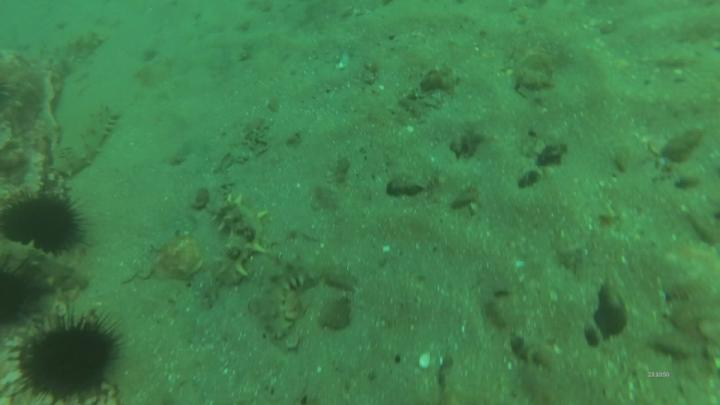echinus: (1, 304, 140, 396), (7, 184, 95, 259), (1, 266, 55, 324)
holothurian: (206, 192, 273, 292), (50, 105, 123, 183), (263, 260, 312, 342)
